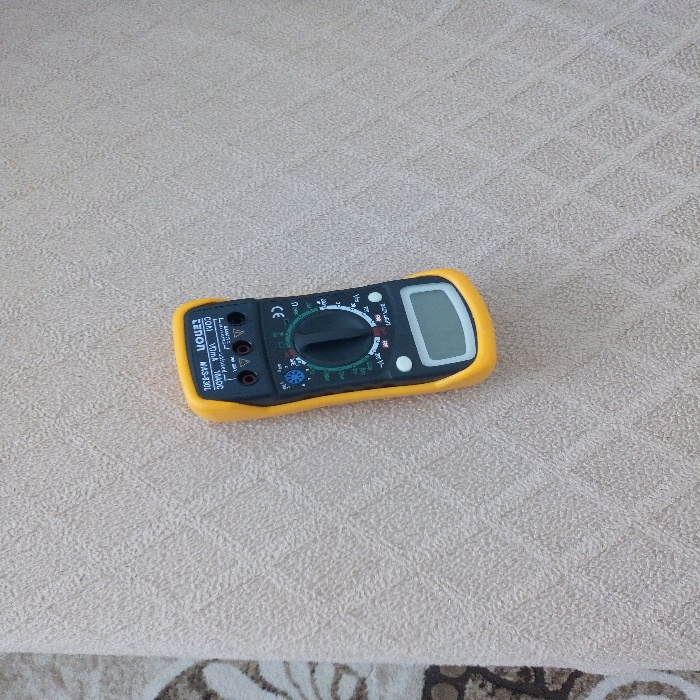multimetre: (155, 271, 515, 421)
